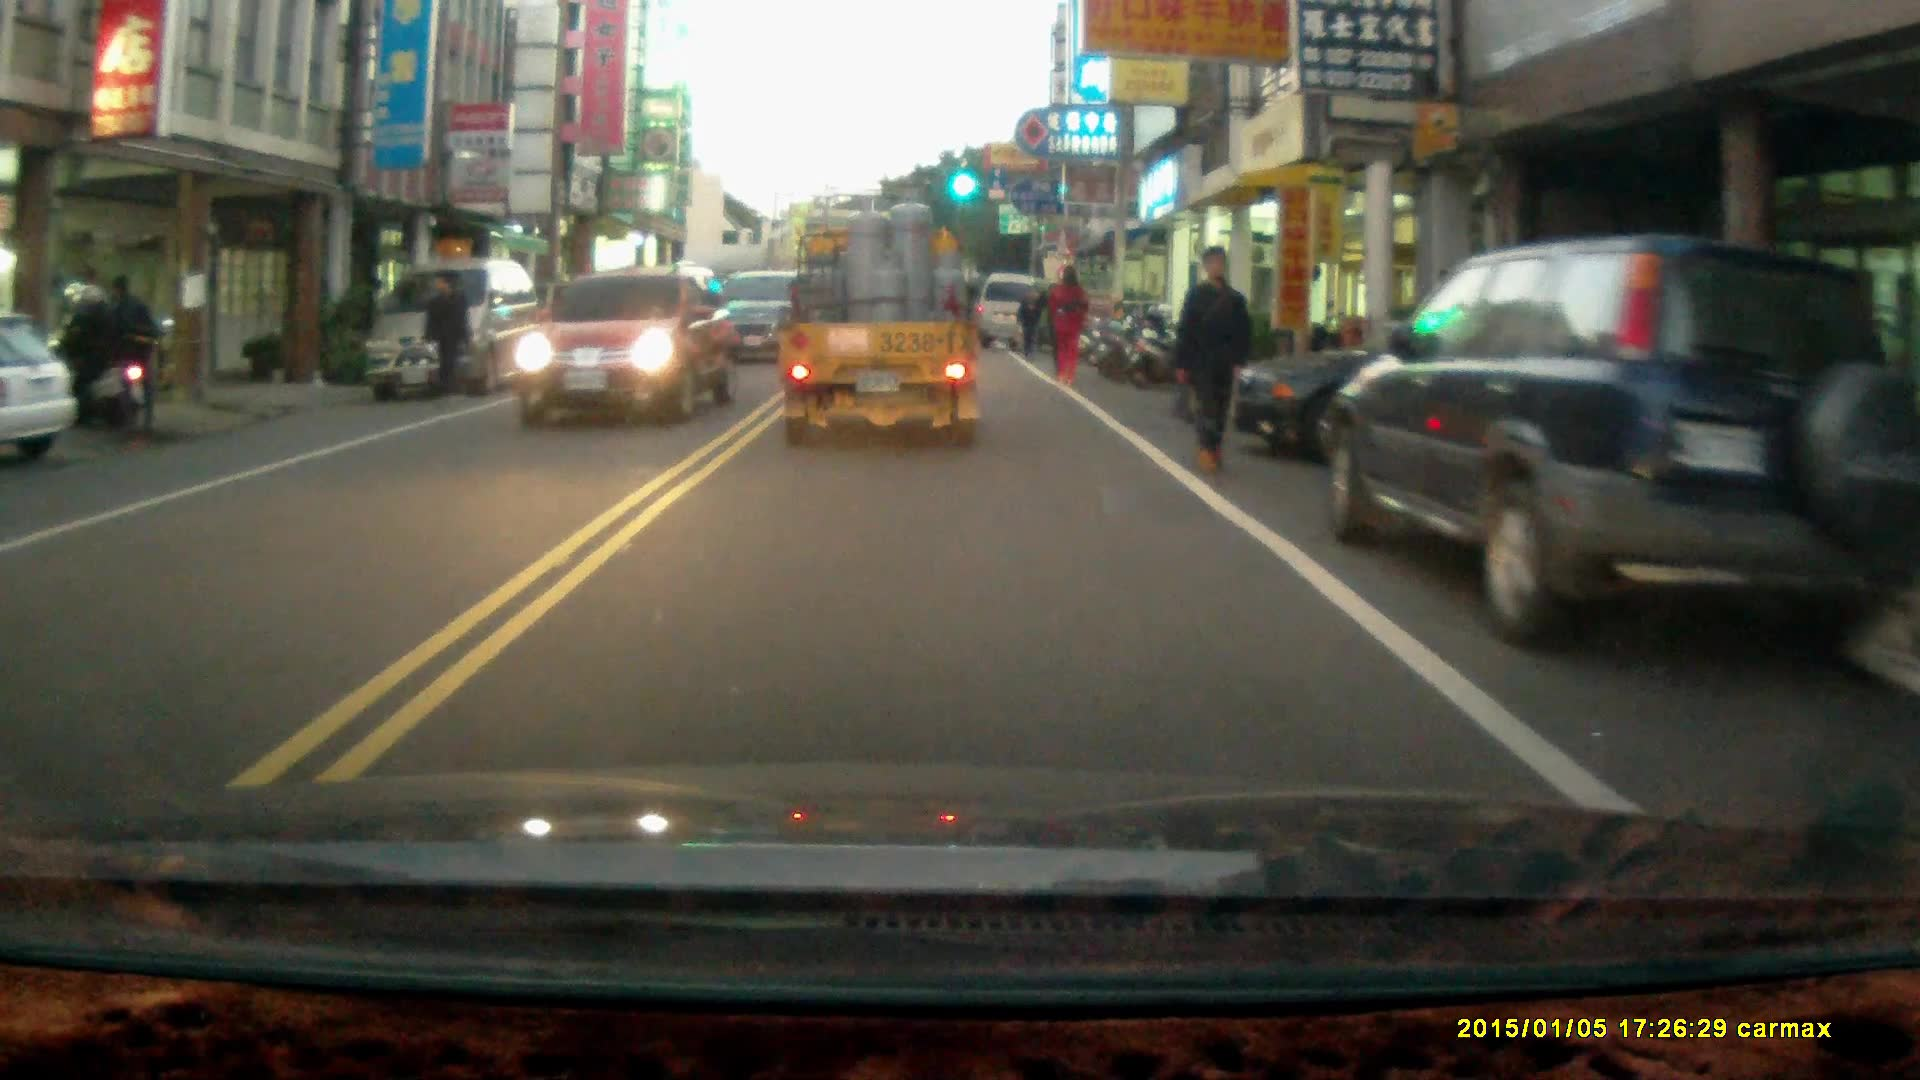pedestrian: (1171, 246, 1252, 483), (100, 278, 161, 444), (417, 270, 472, 414), (1047, 261, 1086, 385), (1014, 288, 1040, 353)
rider: (41, 282, 148, 438)
vehicle: (1320, 231, 1902, 666), (775, 202, 983, 470), (516, 264, 744, 426), (703, 272, 820, 376), (1, 327, 82, 470), (984, 271, 1055, 352)
